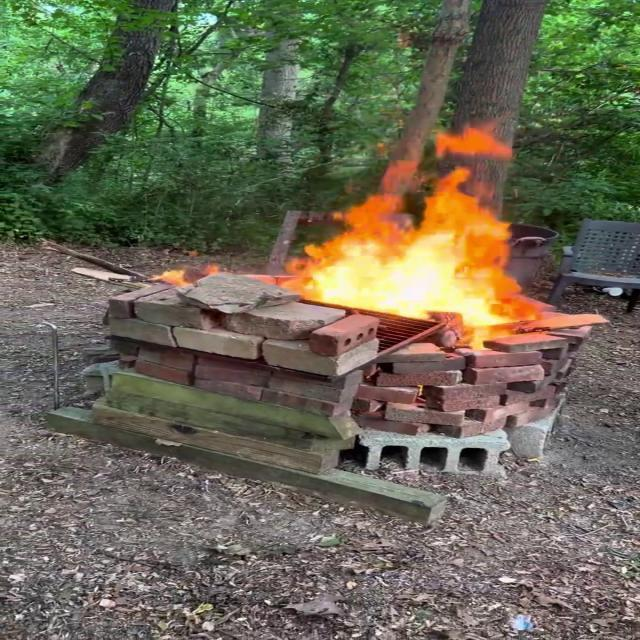Fire: (284, 119, 558, 345)
